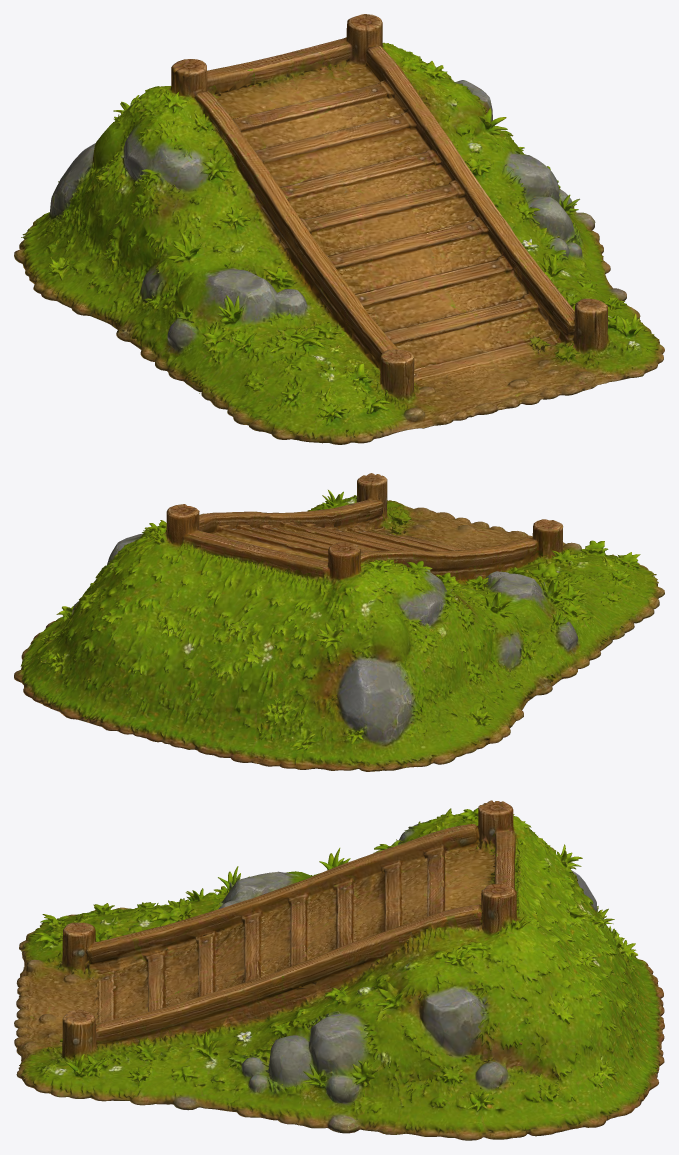
File: Ramp jump.glb
3 views of the same model, one above another, from view 1: azimuth 30°, elevation 25°; view 2: azimuth 150°, elevation 25°; view 3: azimuth 270°, elevation 25° (orthographic). The views are drawn at different scales.
Bounding box in the file's own units: 1.63 × 0.5551 × 1.88.
1 material, 1 textured.
